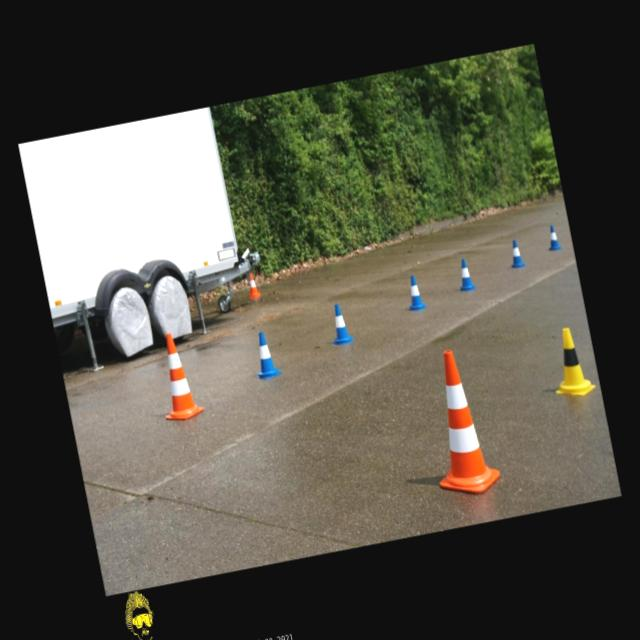blue_cone: (248, 329, 282, 382), (324, 302, 356, 348), (402, 274, 426, 311), (454, 257, 476, 292), (506, 238, 526, 269), (544, 224, 562, 251)
large_orange_cone: (414, 345, 502, 501), (150, 330, 204, 423)
orange_cone: (245, 271, 261, 298)
yellow_cone: (544, 324, 597, 401)
